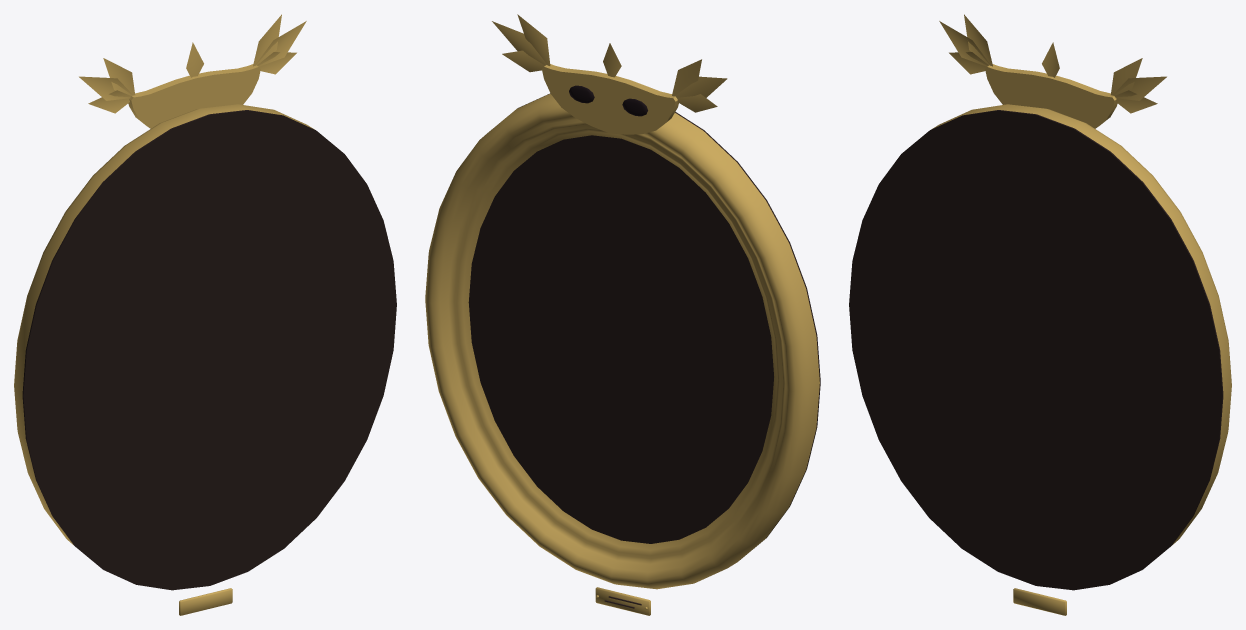
Rendered from mask_crest_oval_p.glb.
3 views of the same model, side by side, from view 1: azimuth 30°, elevation 25°; view 2: azimuth 150°, elevation 25°; view 3: azimuth 330°, elevation 25° (orthographic). The views are drawn at different scales.
Visible parts, largest first — view 1: mask_crest_oval_p; view 2: mask_crest_oval_p; view 3: mask_crest_oval_p.
Part boxes in pixels (x1,y1,x2,y2): mask_crest_oval_p: [14, 14, 396, 615]; mask_crest_oval_p: [425, 14, 820, 615]; mask_crest_oval_p: [849, 14, 1231, 615].
Size of what is drawn, in the model's own units: 0.9806 by 1.41 by 0.0883.
